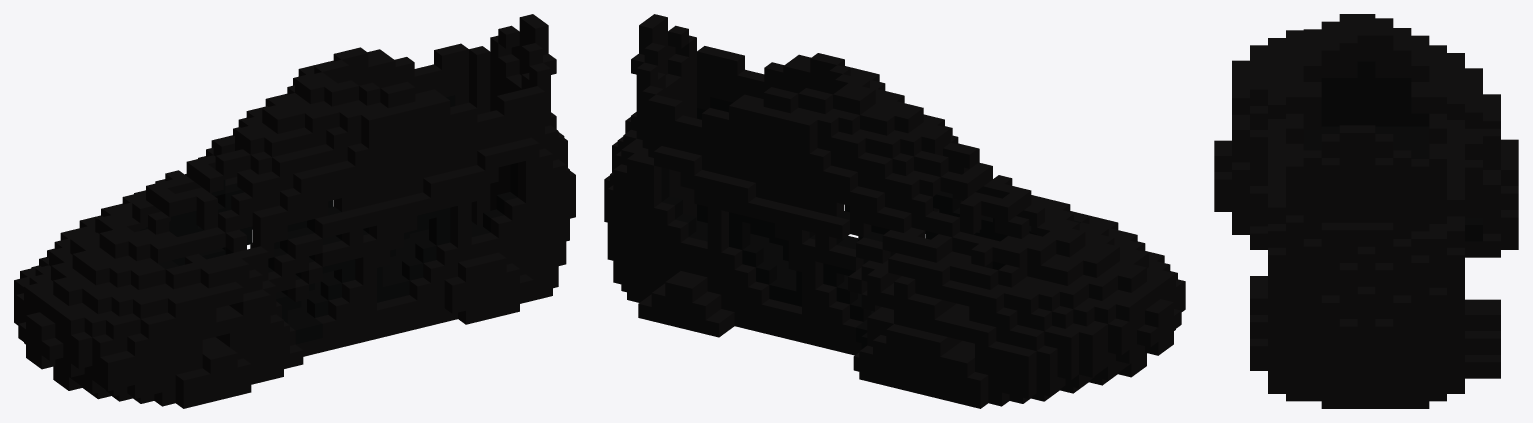
Rendered from Carbon.fbx.
3 views of the same model, side by side, from view 1: azimuth 30°, elevation 25°; view 2: azimuth 150°, elevation 25°; view 3: azimuth 270°, elevation 25° (orthographic). The views are drawn at different scales.
Parts seen in each view (by area): view 1: Untitled; view 2: Untitled; view 3: Untitled.
Part boxes in pixels (left/top/right/bottom): Untitled: left=14, top=14, right=575, bottom=408; Untitled: left=604, top=14, right=1185, bottom=408; Untitled: left=1214, top=14, right=1518, bottom=408.
Bounding box in the file's own units: 400 × 170 × 170.
